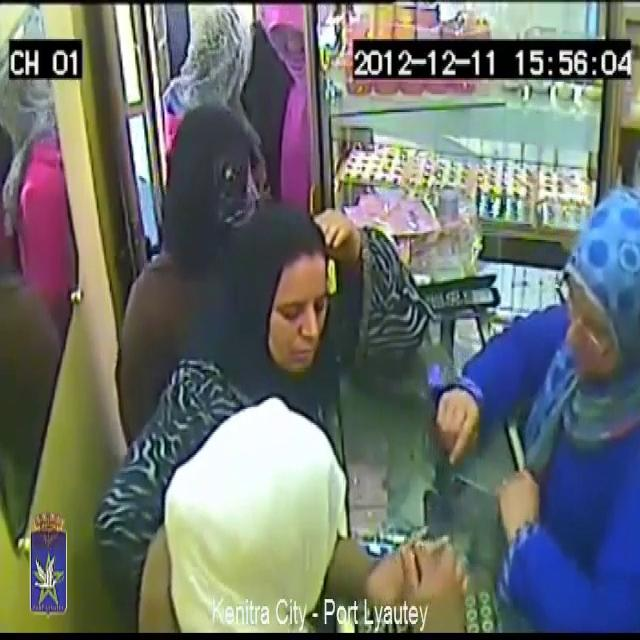Product: (403, 568, 428, 610)
normal: (464, 151, 640, 640), (248, 218, 372, 424), (154, 112, 248, 302)
shoplifting: (116, 410, 445, 640), (138, 0, 300, 266)
